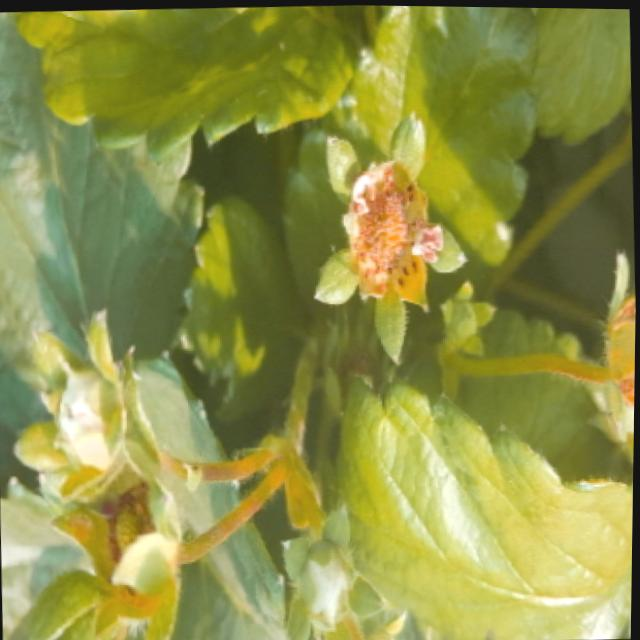Blossom Blight: (344, 160, 444, 292)
